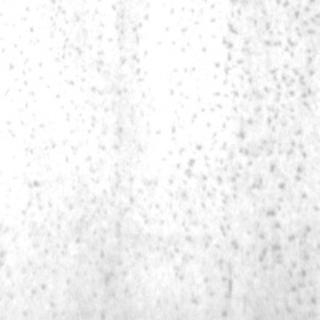pitted_surface: (192, 0, 318, 314), (24, 6, 150, 310)
